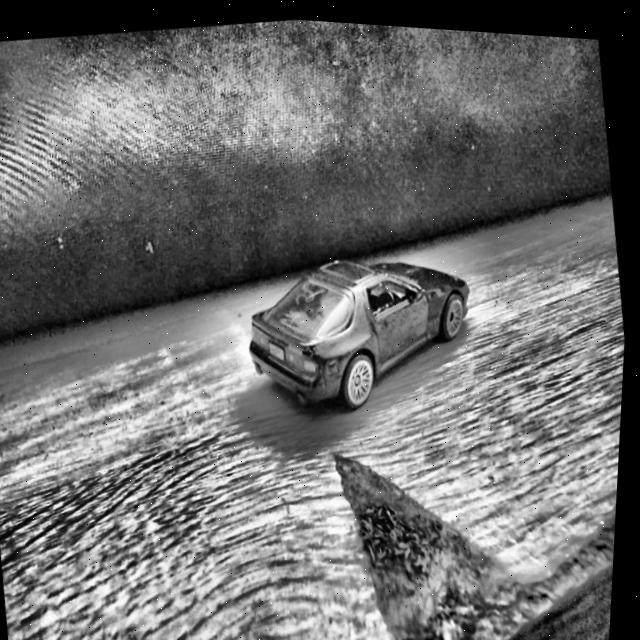car: (239, 230, 489, 425)
